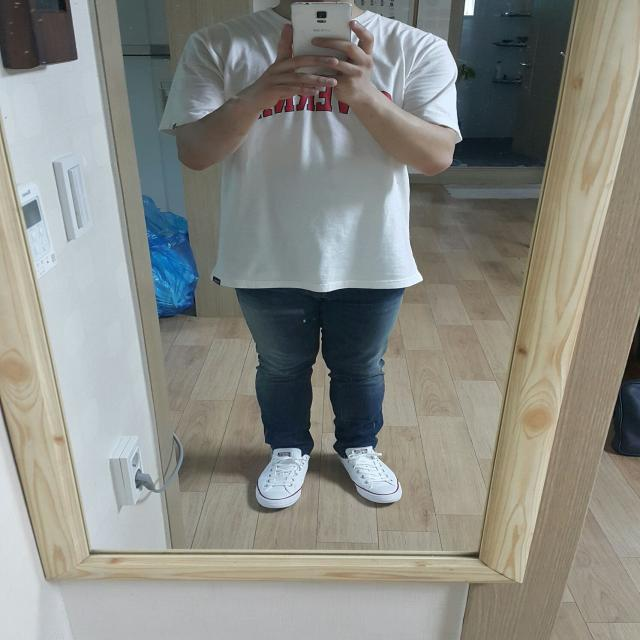denimpants: (236, 286, 407, 447)
shortsleeve: (163, 5, 463, 292)
